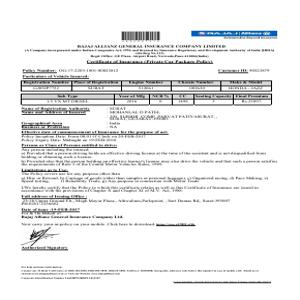table: (21, 79, 272, 91), (21, 93, 273, 104)
text: (21, 108, 281, 230)
